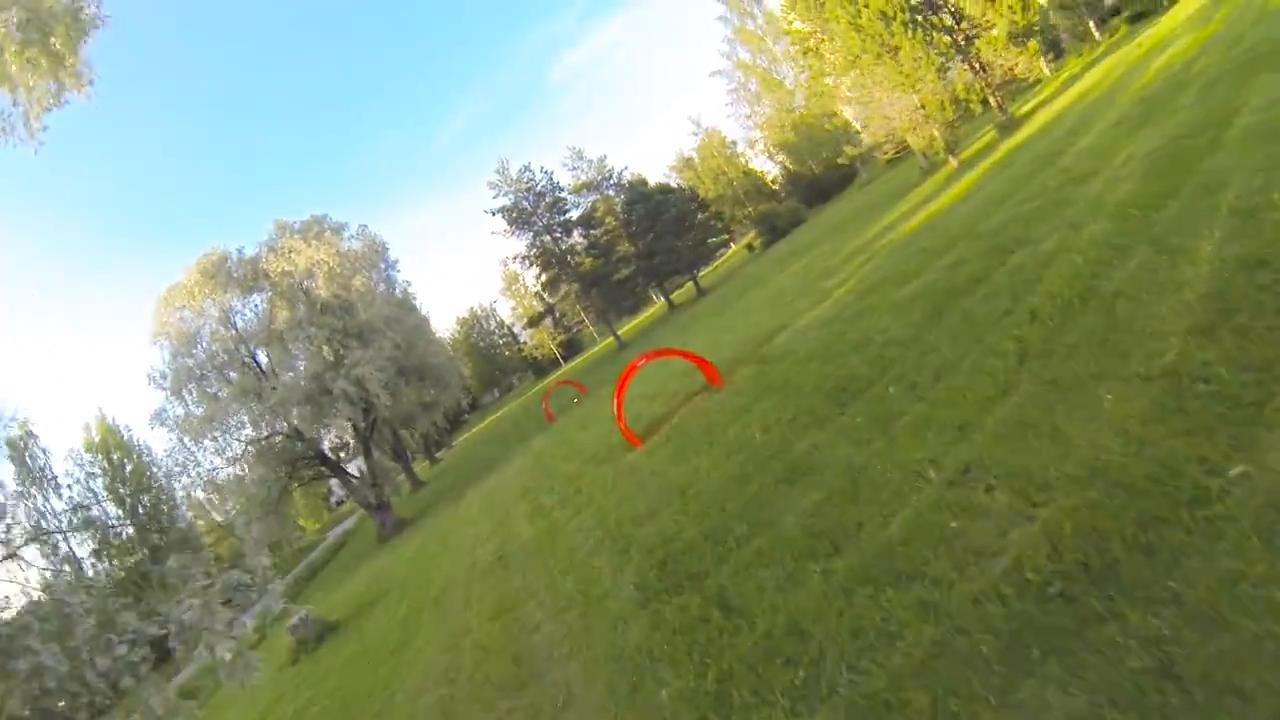gate: (605, 342, 727, 451)
